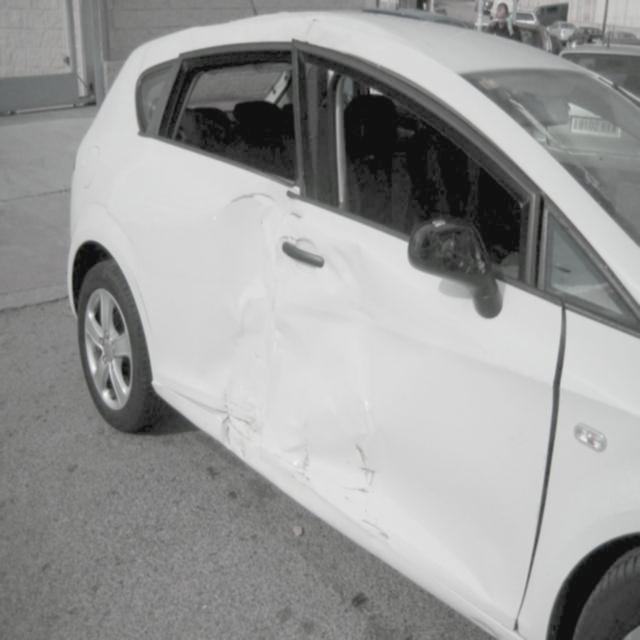minor: (212, 187, 377, 514)
